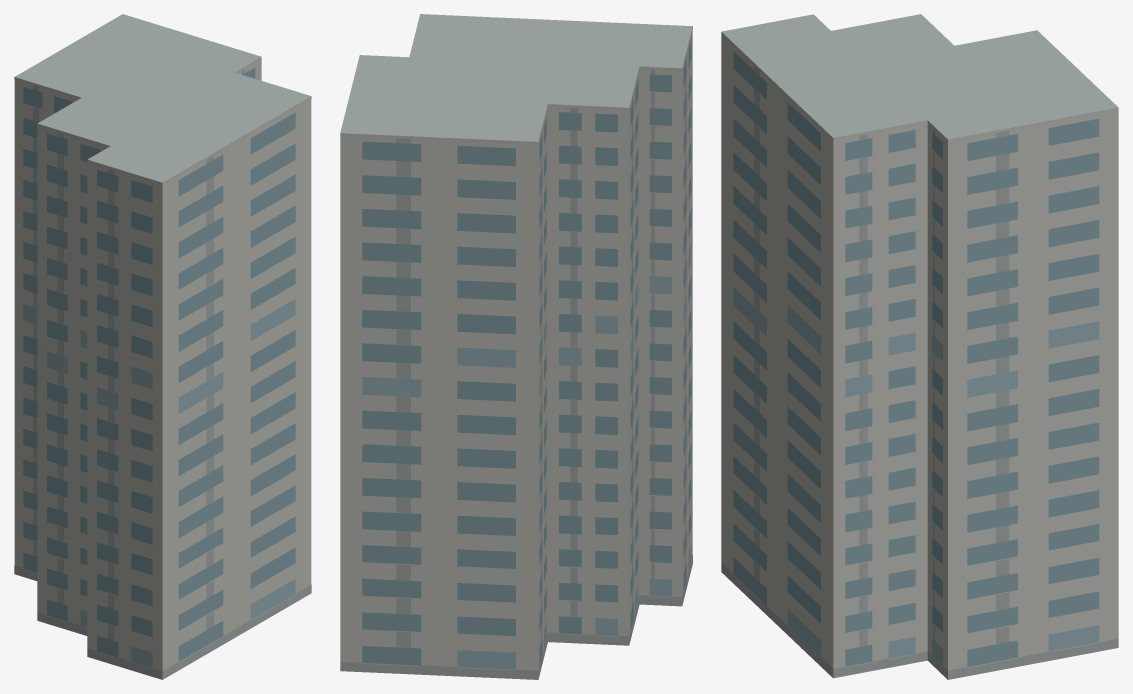
The model's file is residential-dfd72b4e-9b3e-4f87-a749-17d59ee49385.glb.
The picture shows the model from 3 angles, left to right: view 1: azimuth 30°, elevation 25°; view 2: azimuth 150°, elevation 25°; view 3: azimuth 270°, elevation 25°; orthographic projection. The views are drawn at different scales.
Visible parts, largest first — view 1: residential-dfd72b4e-9b3e-4f87-a749-17d59ee49385.tmp; view 2: residential-dfd72b4e-9b3e-4f87-a749-17d59ee49385.tmp; view 3: residential-dfd72b4e-9b3e-4f87-a749-17d59ee49385.tmp.
Boxes of the visible parts, left/top/right/bottom form: residential-dfd72b4e-9b3e-4f87-a749-17d59ee49385.tmp: left=14, top=14, right=311, bottom=679; residential-dfd72b4e-9b3e-4f87-a749-17d59ee49385.tmp: left=340, top=14, right=692, bottom=679; residential-dfd72b4e-9b3e-4f87-a749-17d59ee49385.tmp: left=721, top=14, right=1118, bottom=679.
Size of the model in its own units: 24.42 by 49 by 32.66.
